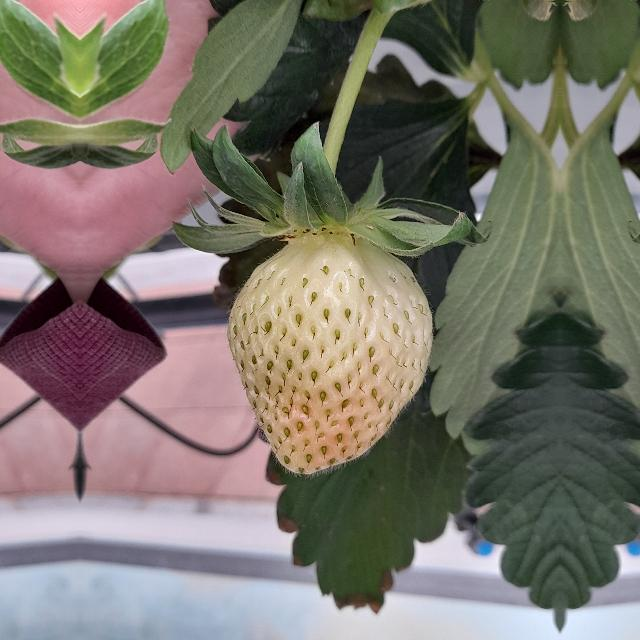Health_50: (226, 230, 432, 474)
